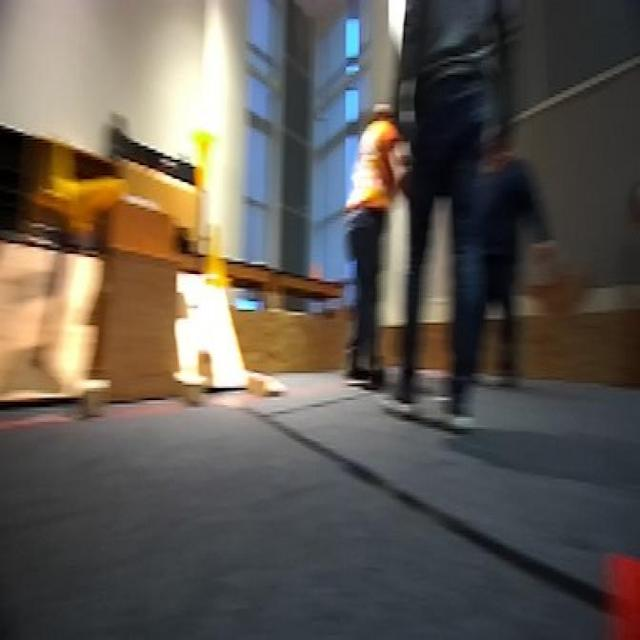frc_cone: (63, 168, 127, 236), (190, 116, 227, 194), (204, 223, 234, 296), (49, 143, 80, 211)
